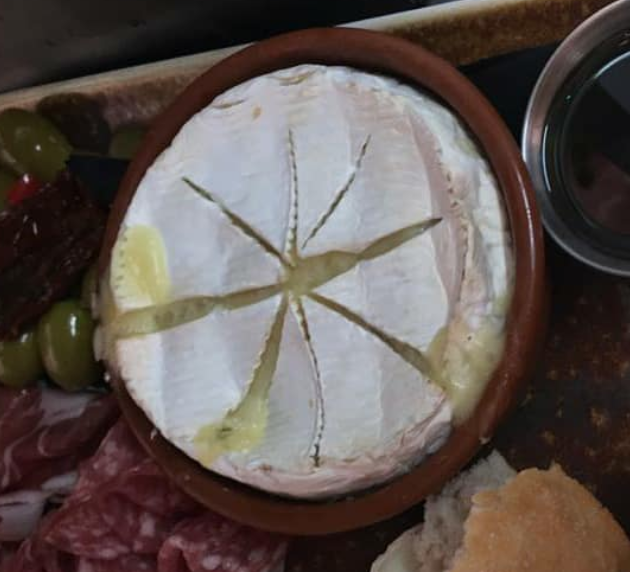camembert: (107, 65, 517, 500)
